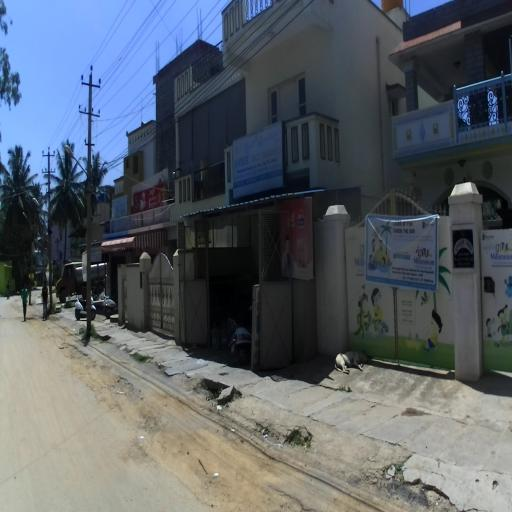street_light_0: (64, 145, 92, 197), (32, 198, 51, 226), (22, 212, 34, 230)
